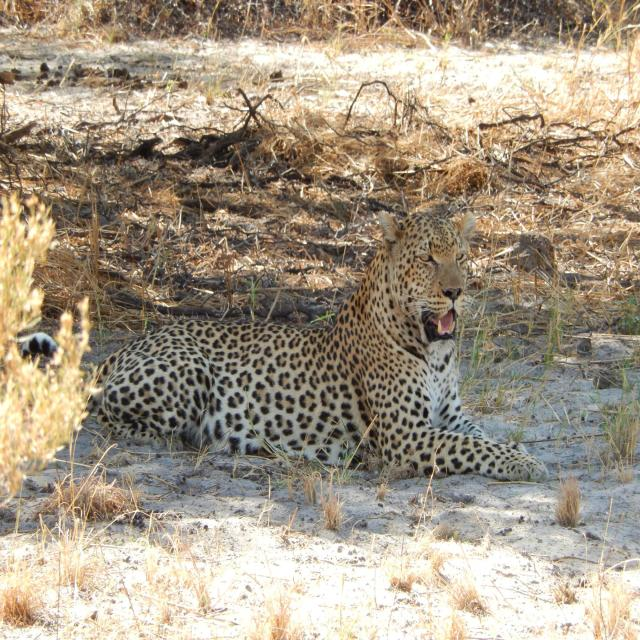Leopard: (0, 227, 578, 495)
